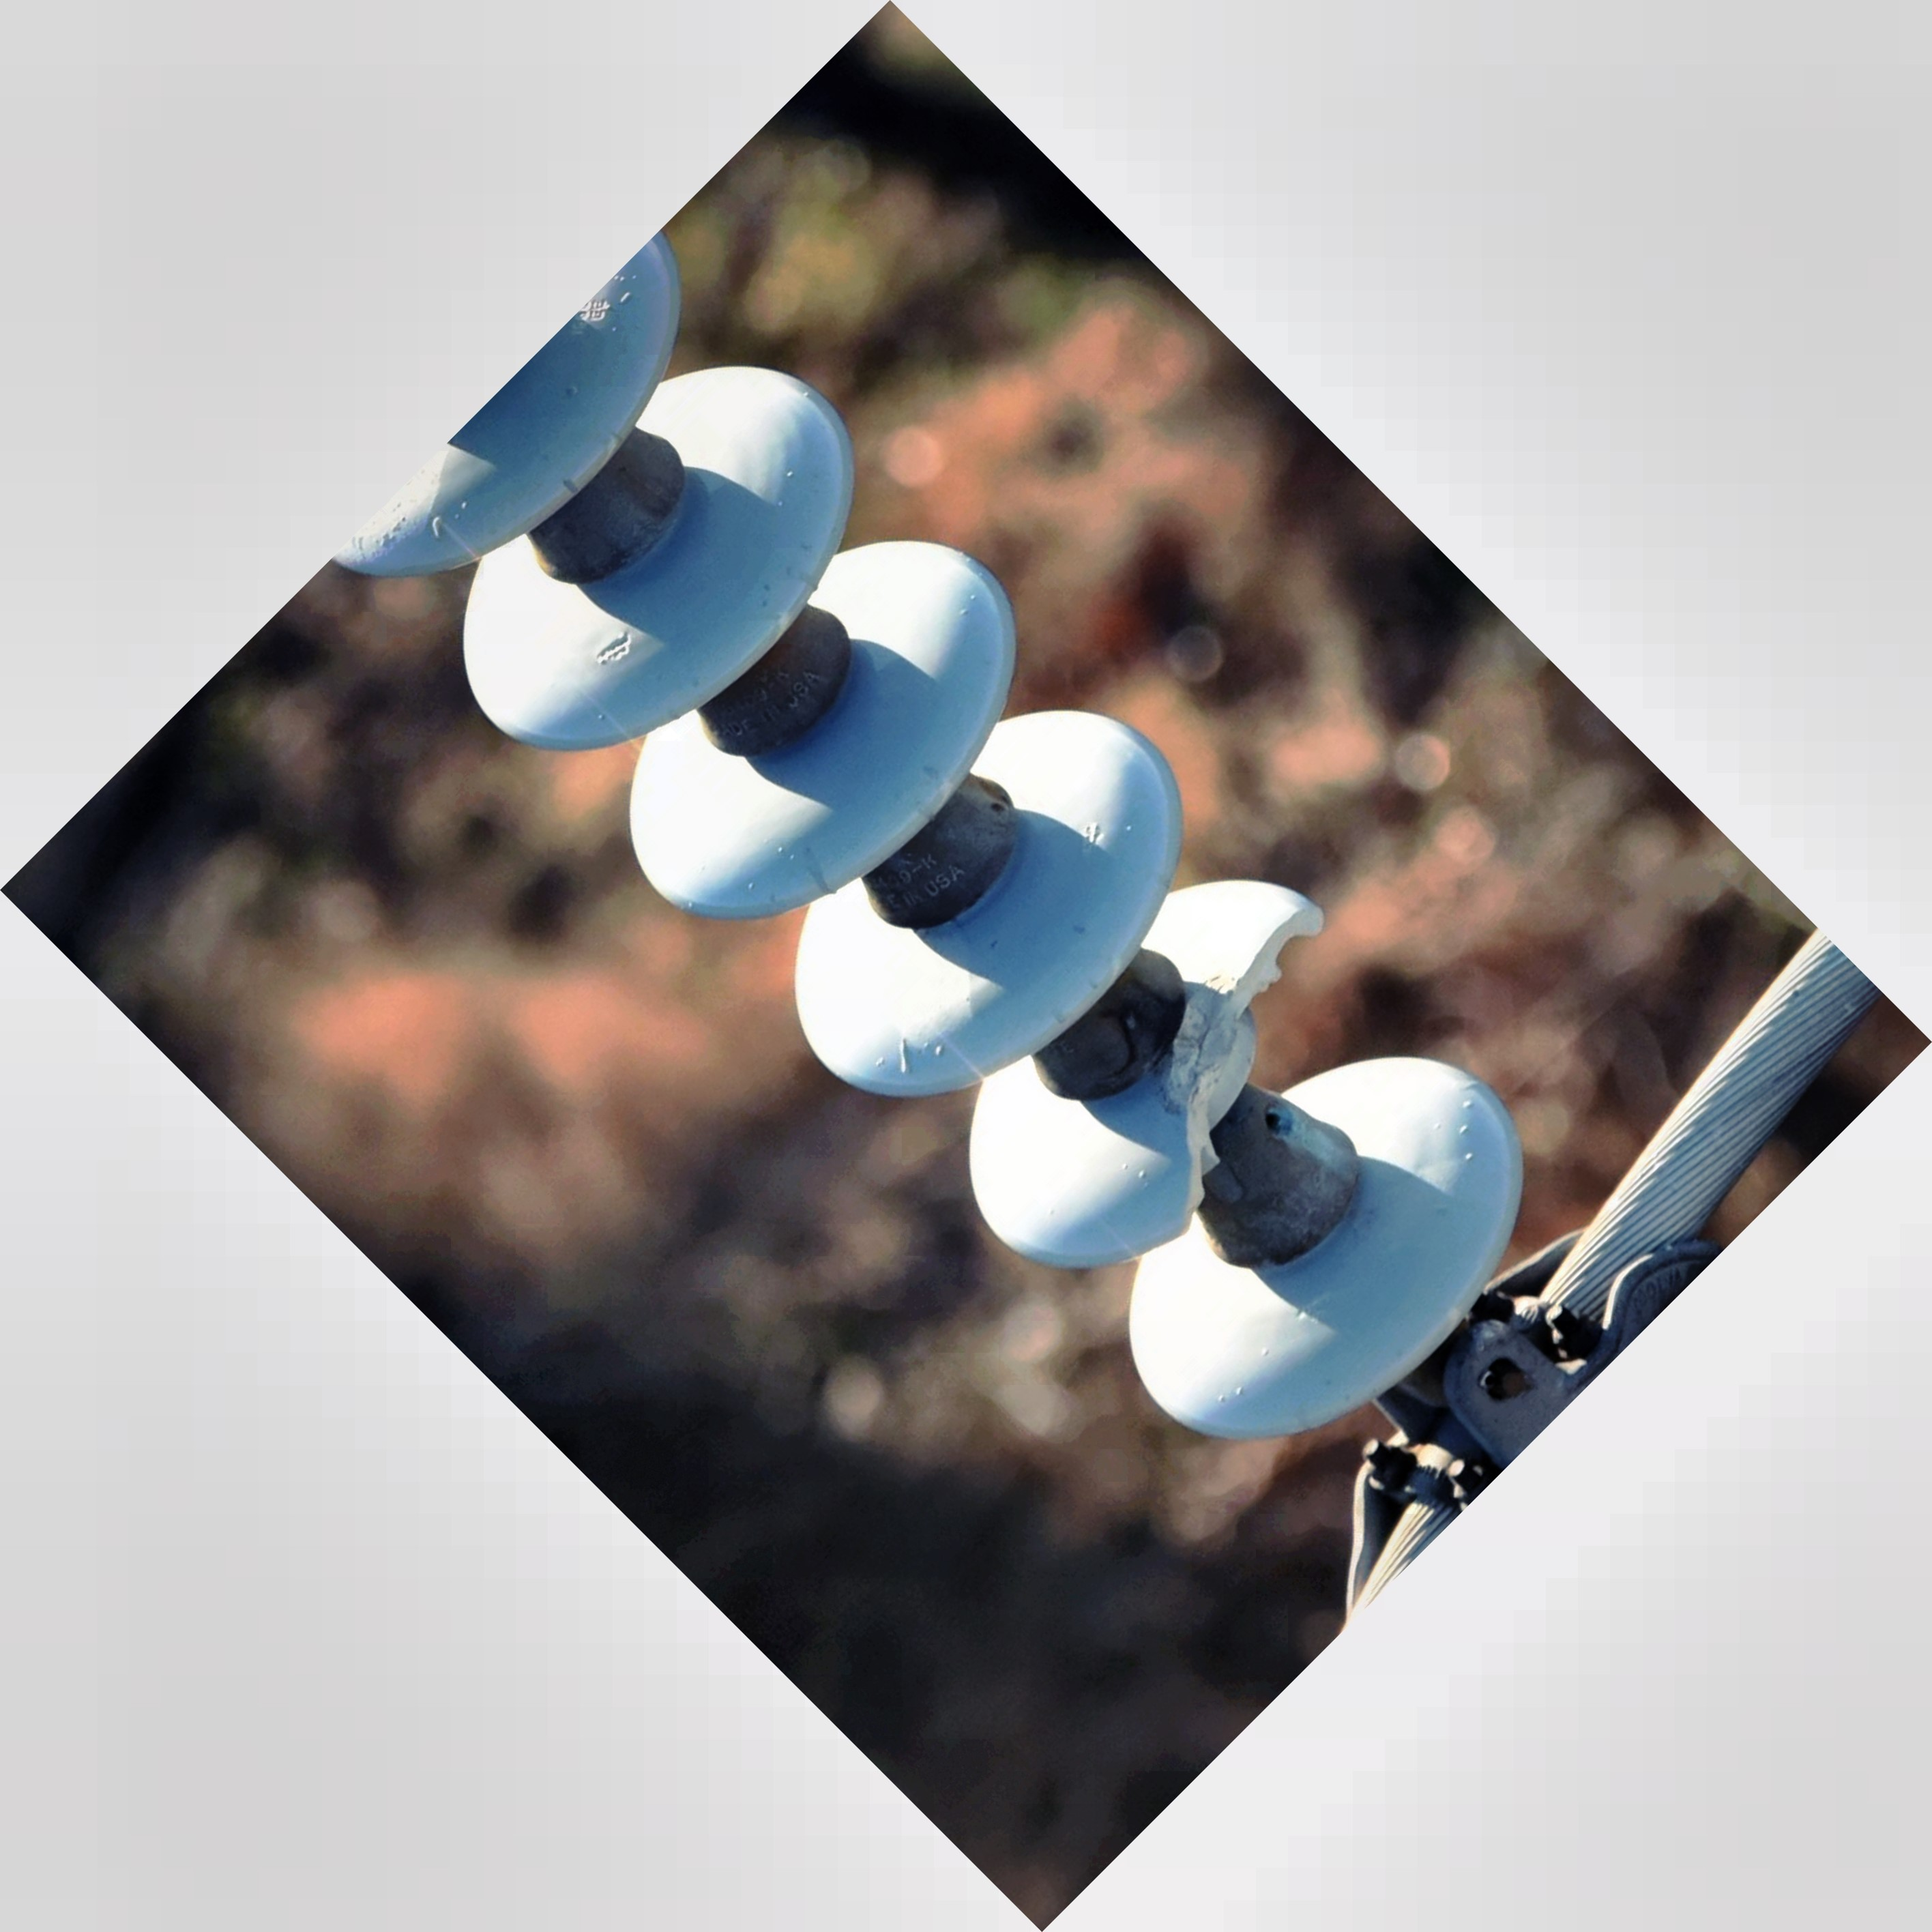insulator breakage: (966, 844, 1336, 1279)
